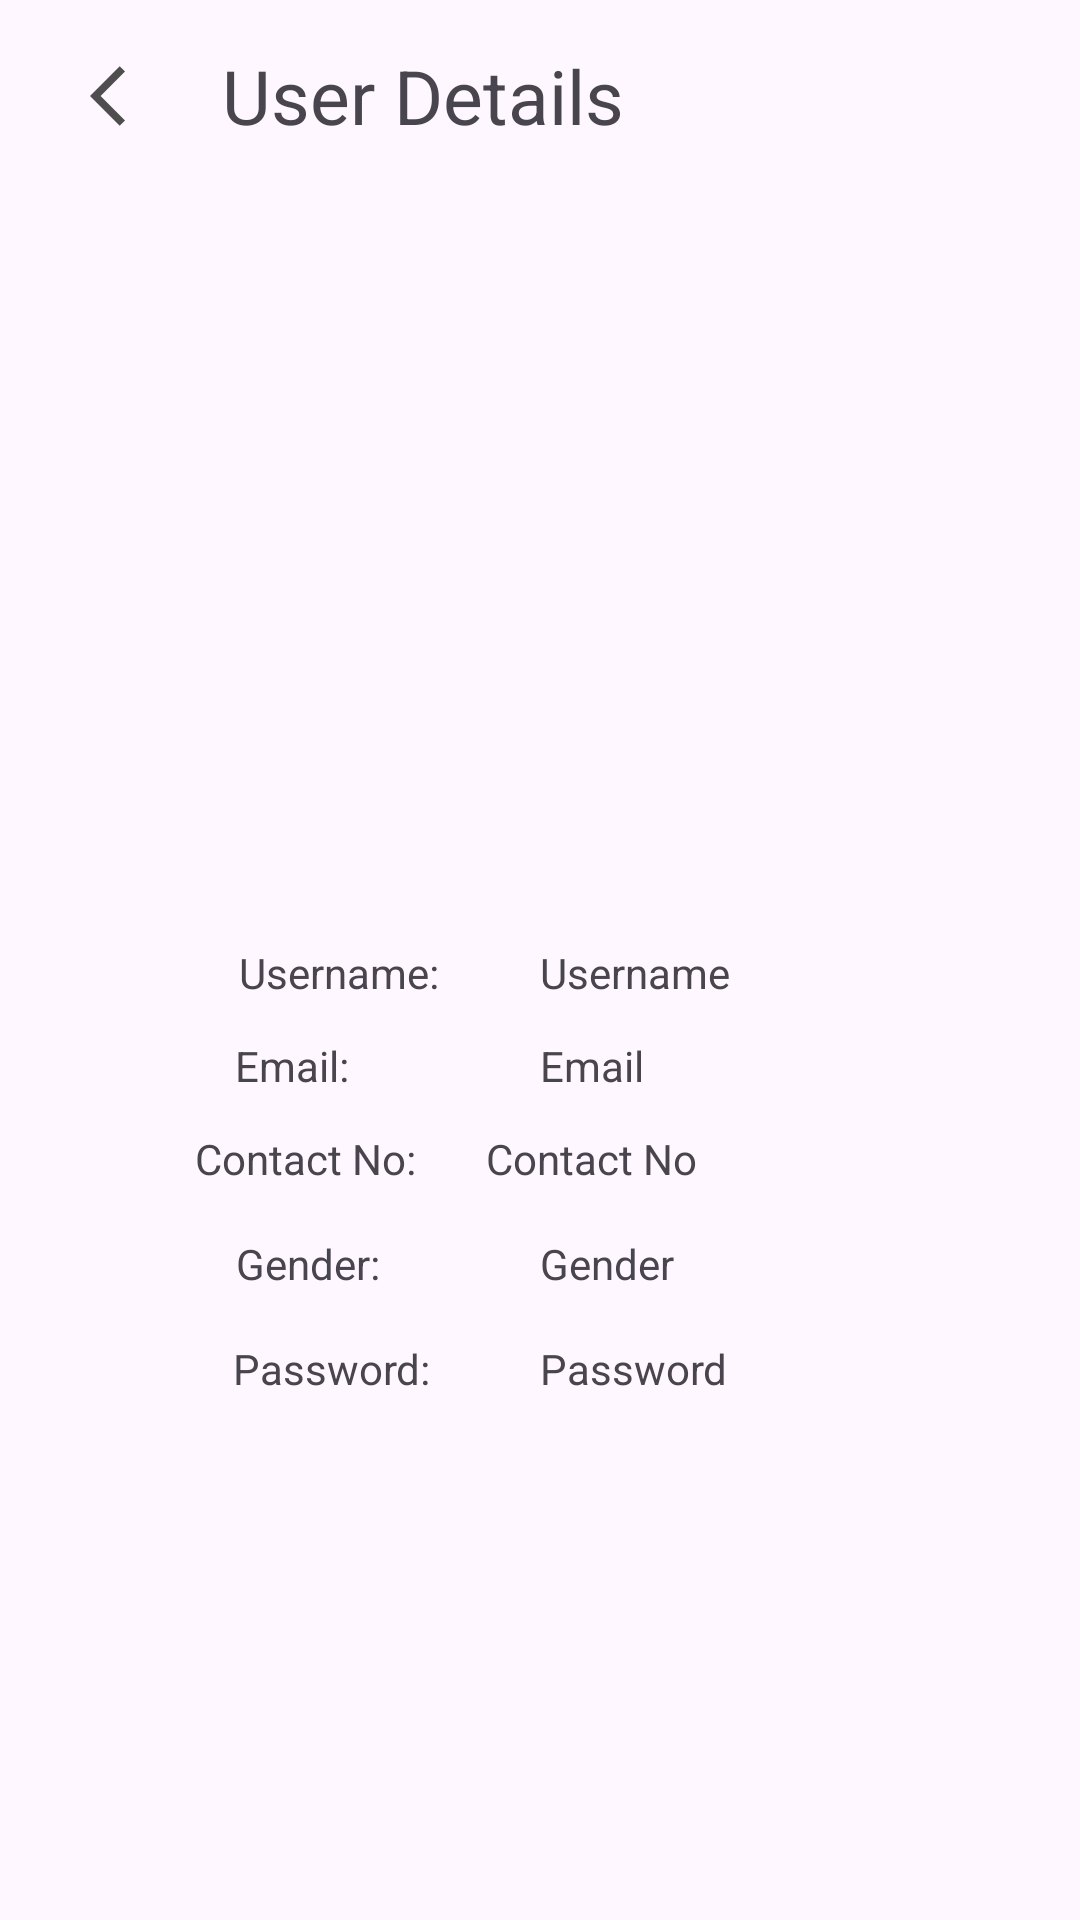

Named icons in this screenshot (1080px×1920px) and their bounding boxes, [left=x1, top=y1, right=x2, bottom=y2]:
arrow back: [left=90, top=66, right=125, bottom=126]
